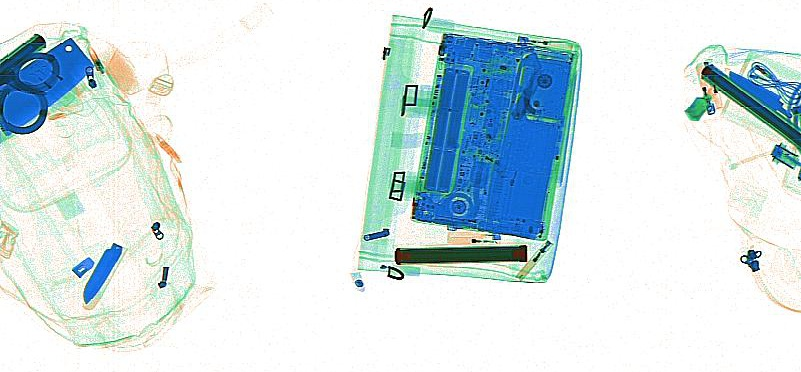handcuffs: (1, 51, 61, 135)
knife: (1, 37, 95, 137), (724, 66, 799, 125), (81, 240, 128, 310), (507, 51, 542, 120)
lighter: (28, 62, 76, 108), (41, 54, 88, 99), (515, 238, 554, 281), (694, 59, 722, 108), (446, 228, 502, 247), (516, 34, 573, 52)
